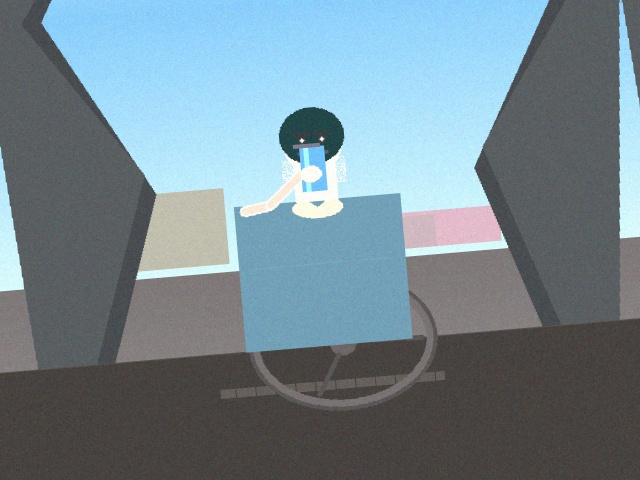drinking: (292, 133, 341, 200)
